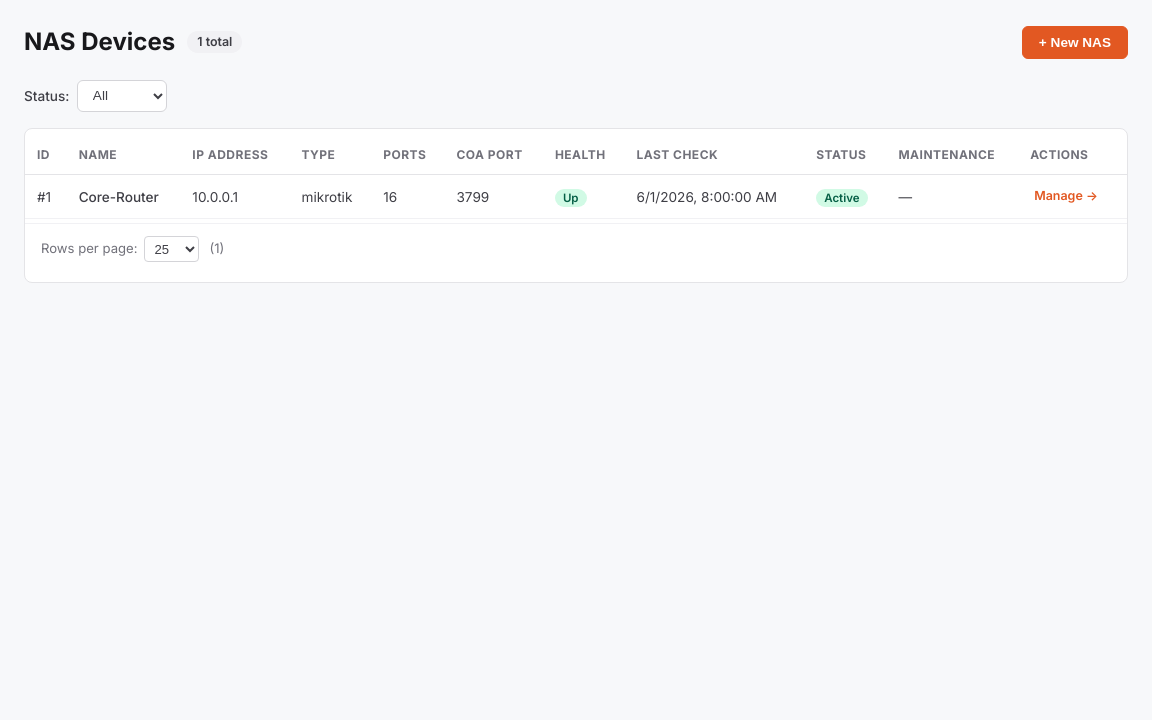
Test: NasList page › New NAS modal contains CoA Port input
Expected: the heading "NAS Devices" is shown, 24,24 -> 175,60
What coordinates should you click on to do the following:
click the button "+ New NAS"
I would click on:
 (1075, 42)
Its box is 1022,26 -> 1128,58.
(page scrolled)
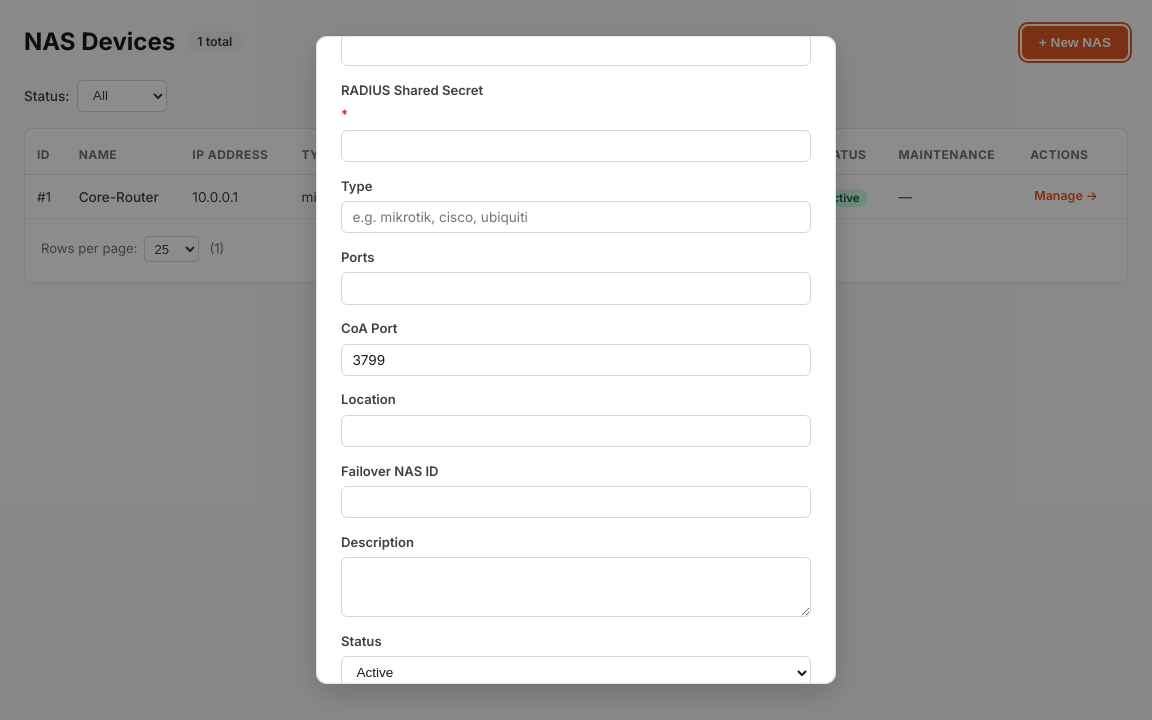
Result: the number field labelled "CoA Port" holds "3799" at 341,344 -> 811,376
